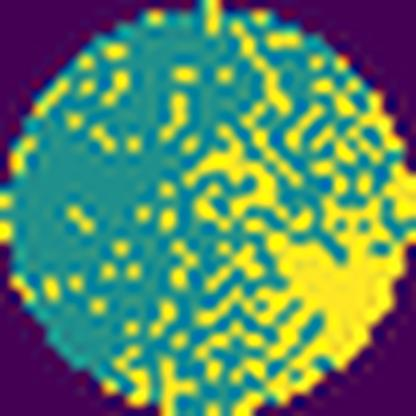Edge-Loc: (169, 116, 415, 416)
